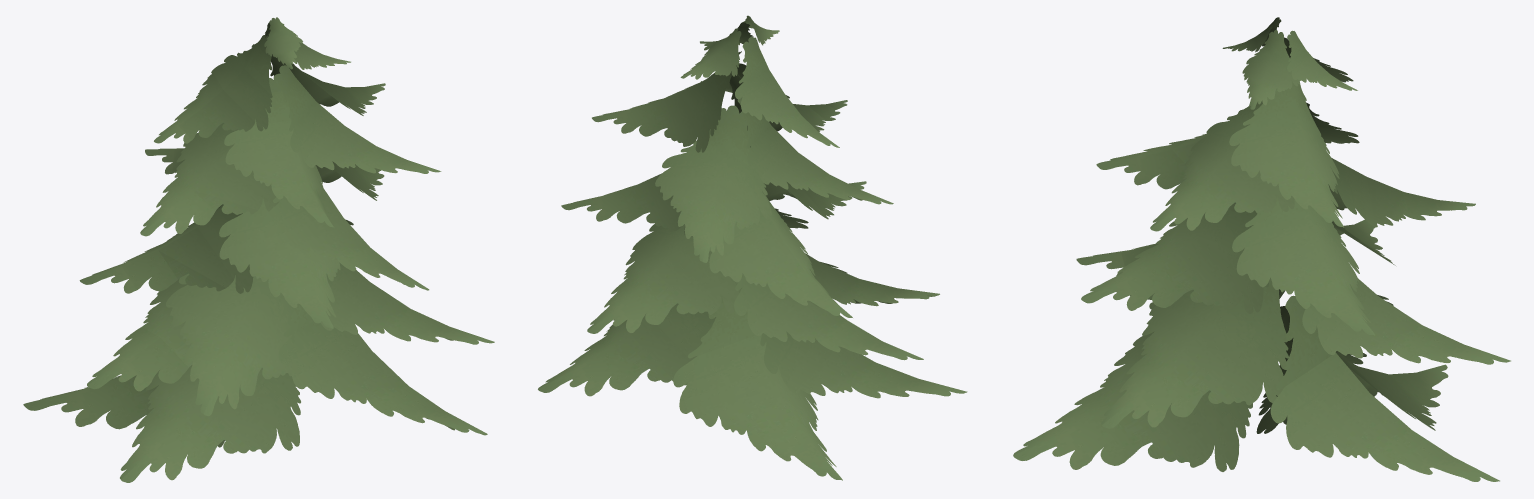
Rendered from Pine_3.gltf.
3 views of the same model, side by side, from view 1: azimuth 30°, elevation 25°; view 2: azimuth 150°, elevation 25°; view 3: azimuth 270°, elevation 25° (orthographic). The views are drawn at different scales.
Parts seen in each view (by area): view 1: Pine_3; view 2: Pine_3; view 3: Pine_3.
Part boxes in pixels (box(x1,y1,x2,y2)): Pine_3: box(23, 17, 494, 482); Pine_3: box(538, 15, 967, 480); Pine_3: box(1013, 17, 1510, 481).
Size of the model in its own units: 3.61 by 3.97 by 4.
1 material, 1 textured.
